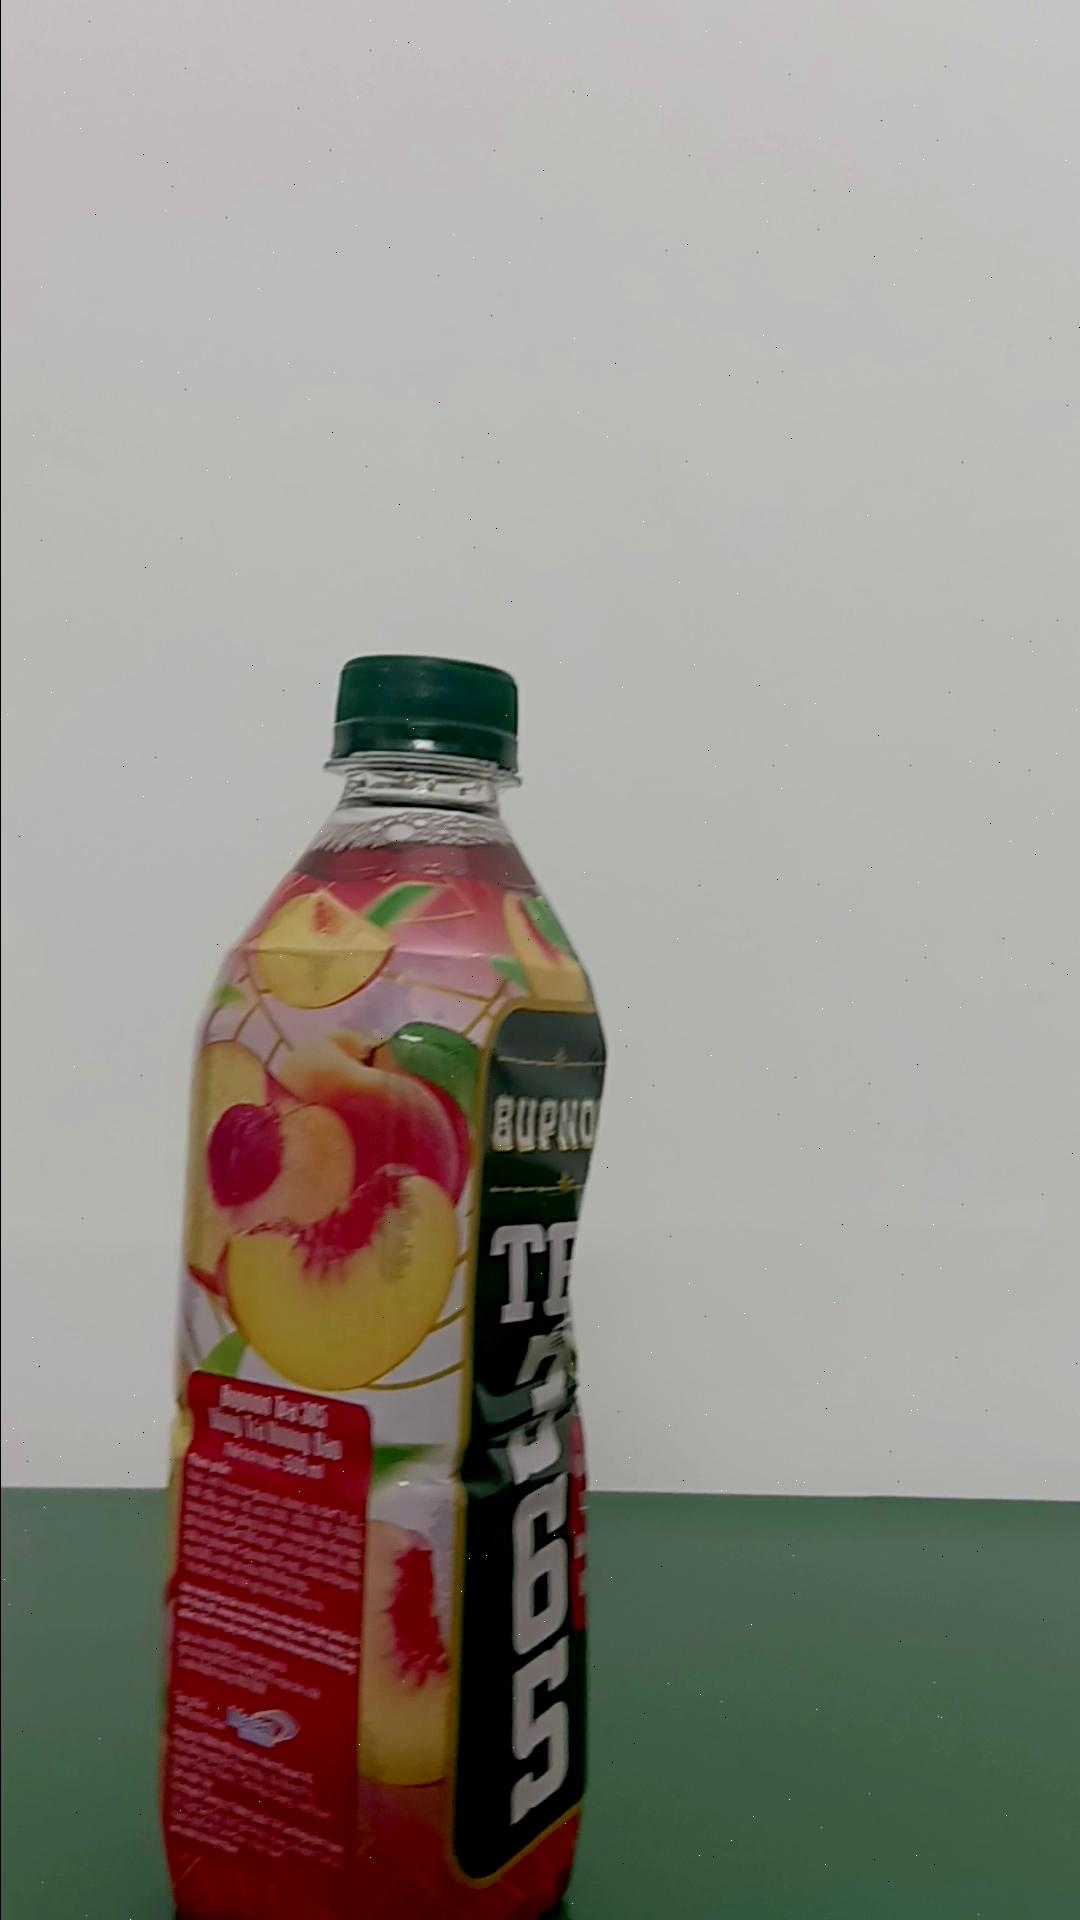loi meo sp: (158, 651, 608, 1916)
